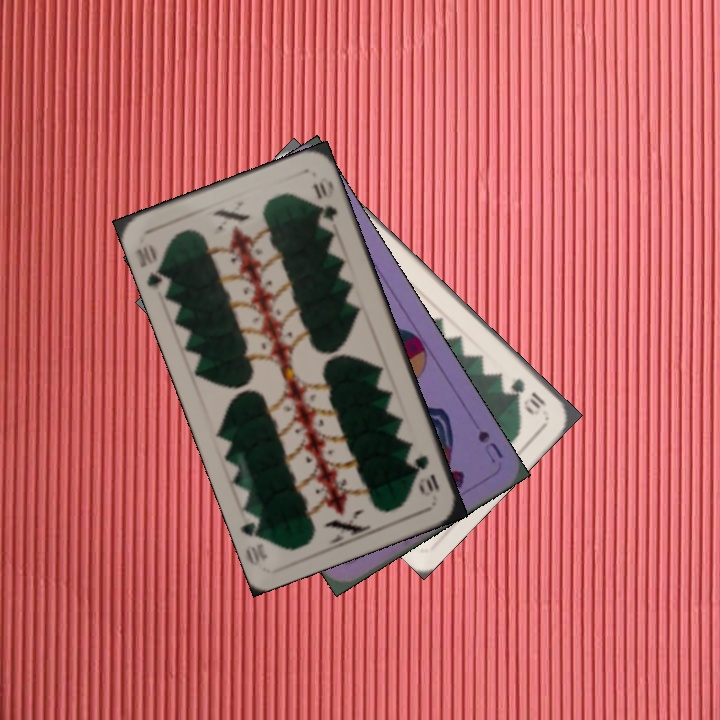G10: (131, 240, 173, 292), (506, 374, 549, 418), (410, 451, 442, 499)
SU: (473, 426, 506, 465)
